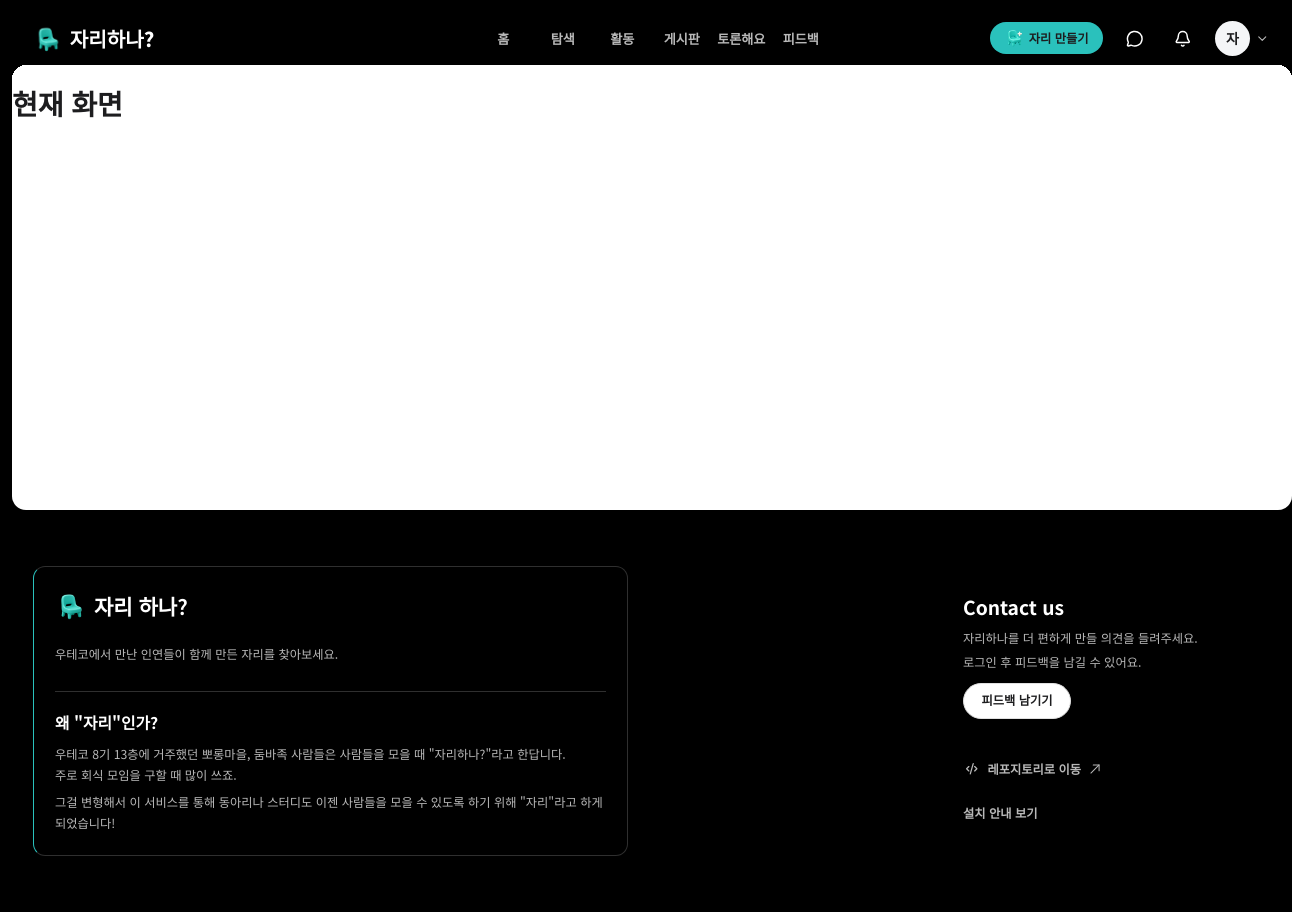
marks my page as current and closes the profile menu after selection
The width and height of the screenshot is (1292, 912).
Click the button named "프로필 메뉴" at (1241, 38), box [1212,16,1271,60]
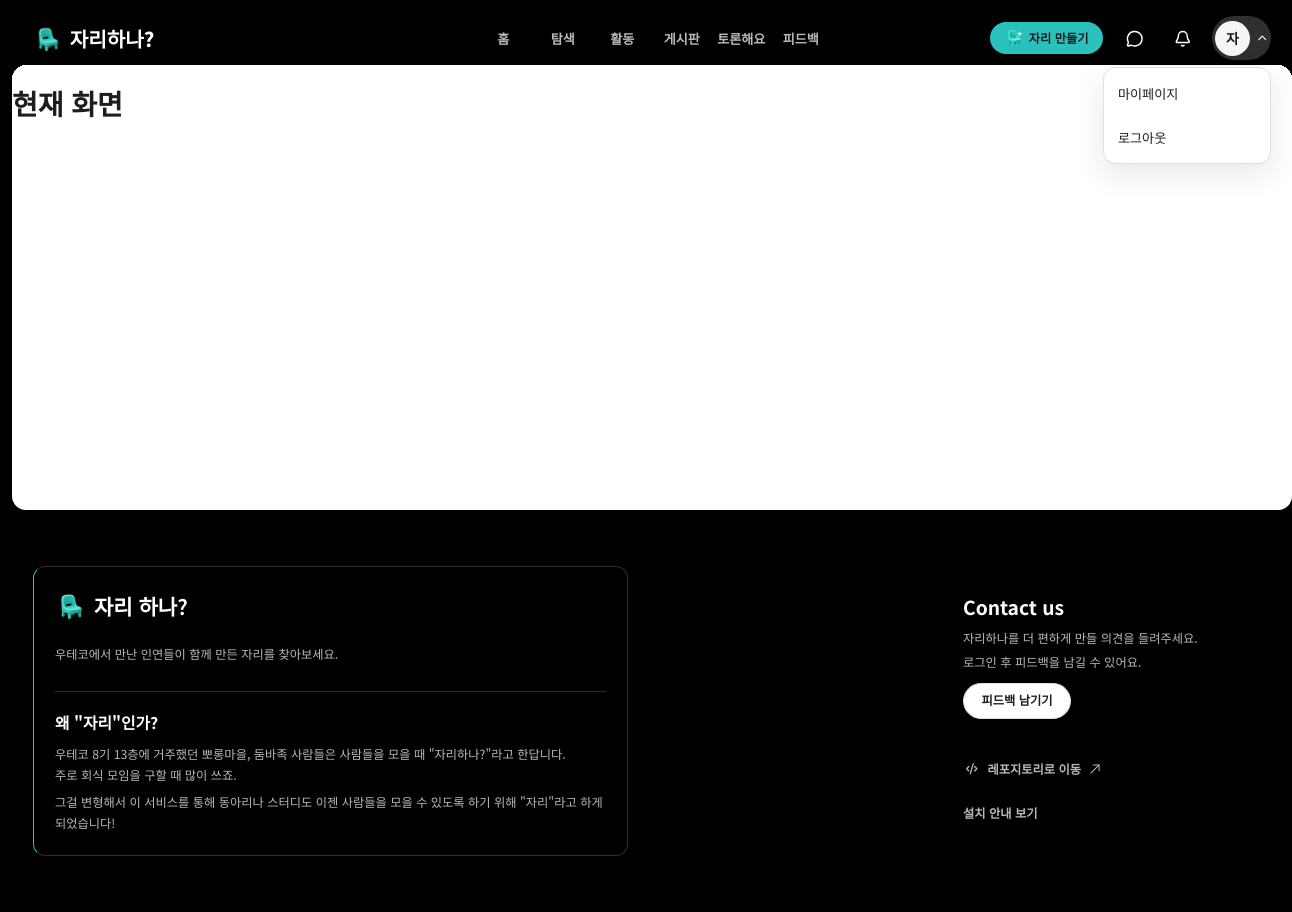
Click the link "마이페이지" at (1148, 94), box [1118,84,1178,103]
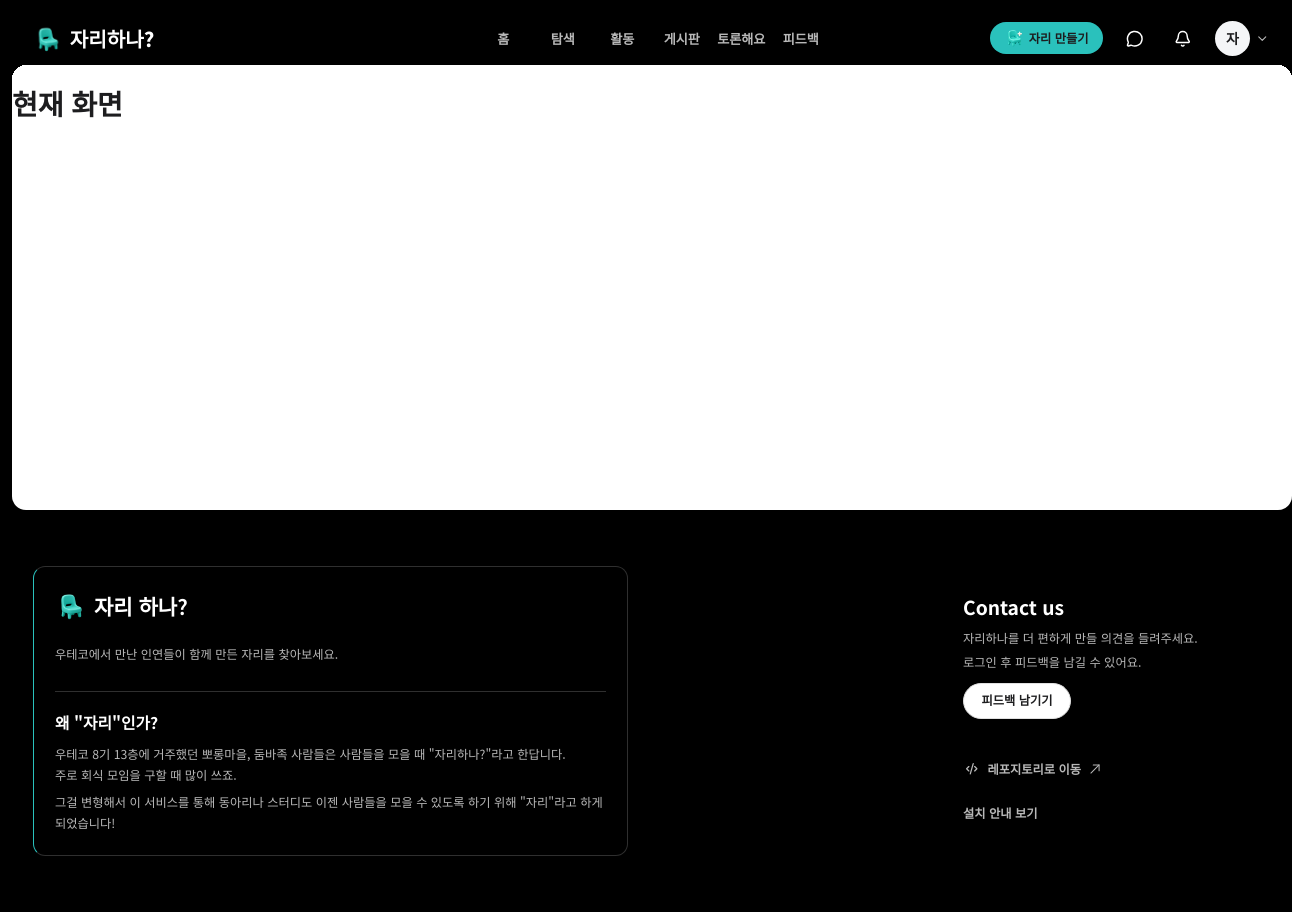
Expected: the button named "프로필 메뉴" is collapsed, [1212,16,1271,60]
